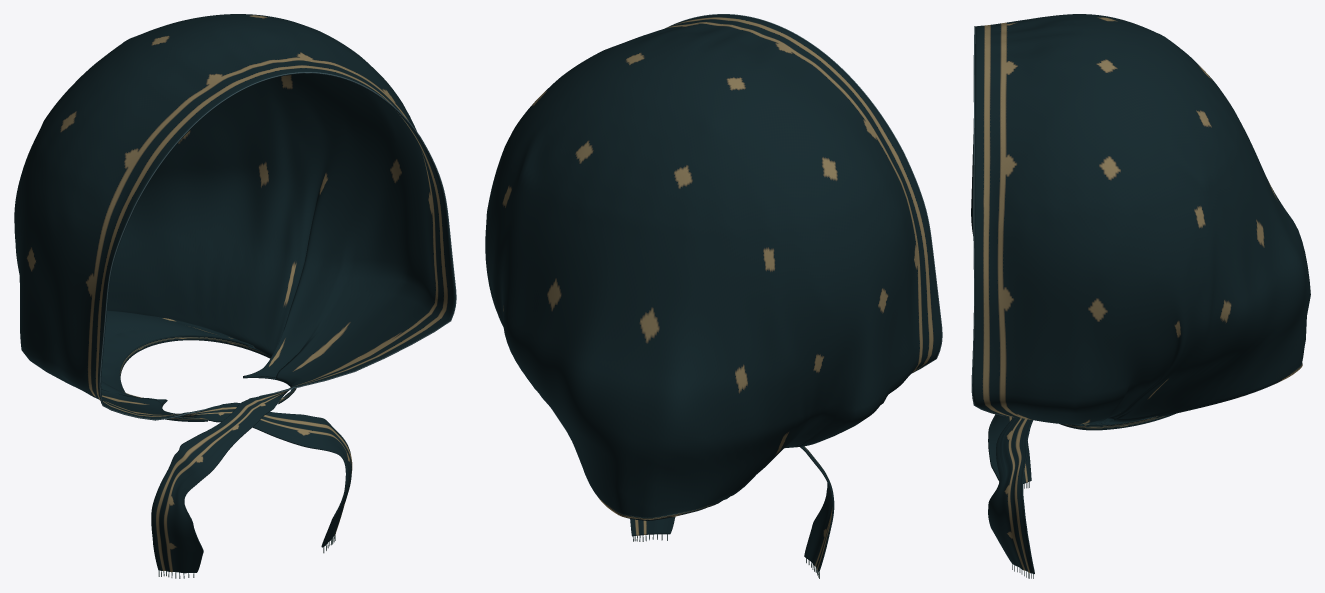
Rendered from Feminine-ponytail-tshirt-pashmina249-headgear.glb.
The picture shows the model from 3 angles, left to right: view 1: azimuth 30°, elevation 25°; view 2: azimuth 150°, elevation 25°; view 3: azimuth 270°, elevation 25°; orthographic projection. The views are drawn at different scales.
Parts seen in each view (by area): view 1: 226 headgear / Headwear / continuous woven pashmina239, 226 headgear / Headwear / face edge239; view 2: 226 headgear / Headwear / continuous woven pashmina239, 226 headgear / Headwear / face edge239; view 3: 226 headgear / Headwear / continuous woven pashmina239, 226 headgear / Headwear / face edge239.
Boxes of the visible parts, x1,y1,x2,y2 form: 226 headgear / Headwear / continuous woven pashmina239: [14, 14, 455, 573]; 226 headgear / Headwear / face edge239: [99, 72, 456, 420]; 226 headgear / Headwear / continuous woven pashmina239: [485, 14, 941, 572]; 226 headgear / Headwear / face edge239: [665, 14, 942, 373]; 226 headgear / Headwear / continuous woven pashmina239: [971, 14, 1310, 573]; 226 headgear / Headwear / face edge239: [971, 26, 1010, 416].
Bounding box in the file's own units: 1.02 × 1.37 × 0.8332.
3 materials, 1 textured.
